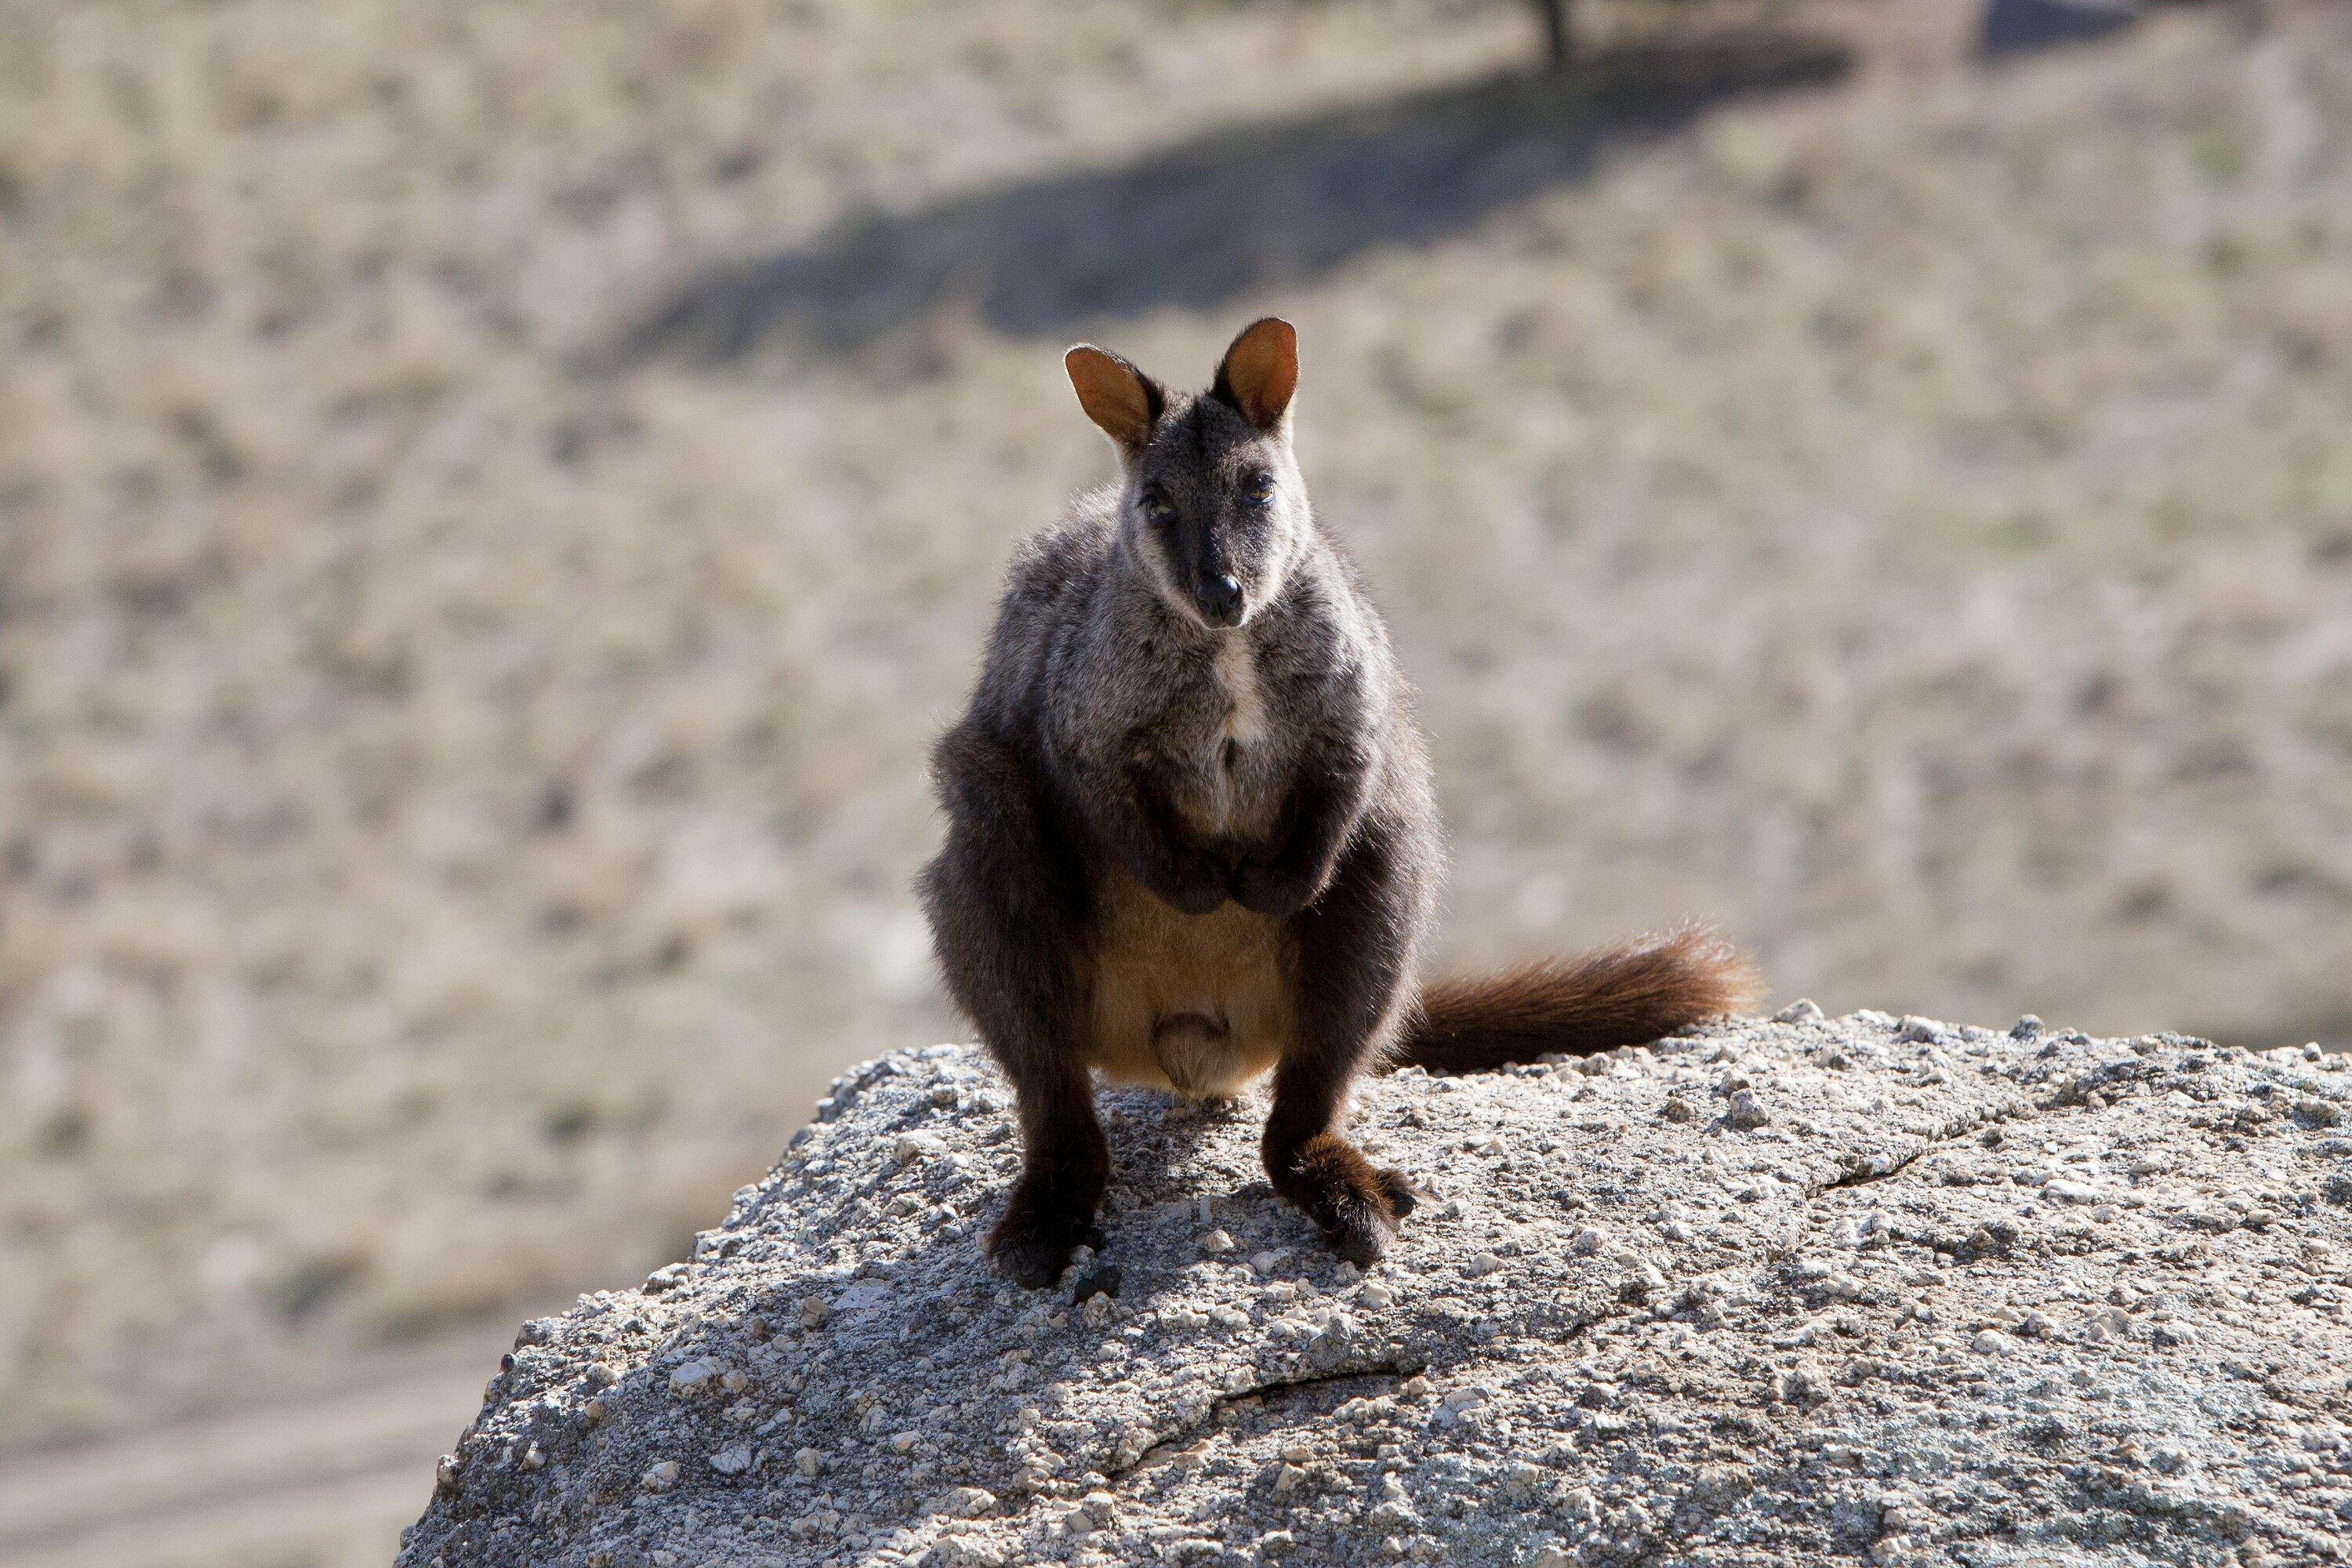Brush-tailed rock-wallaby: (873, 324, 1775, 1314)
